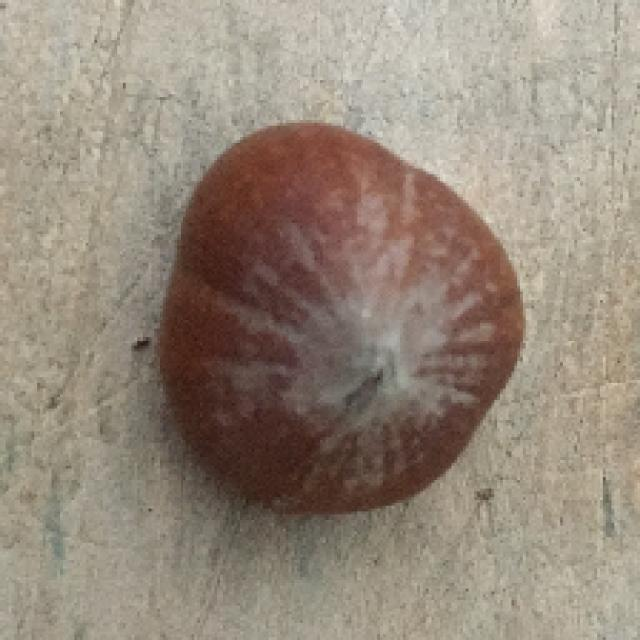qualityHazelnut: (158, 122, 524, 521)
